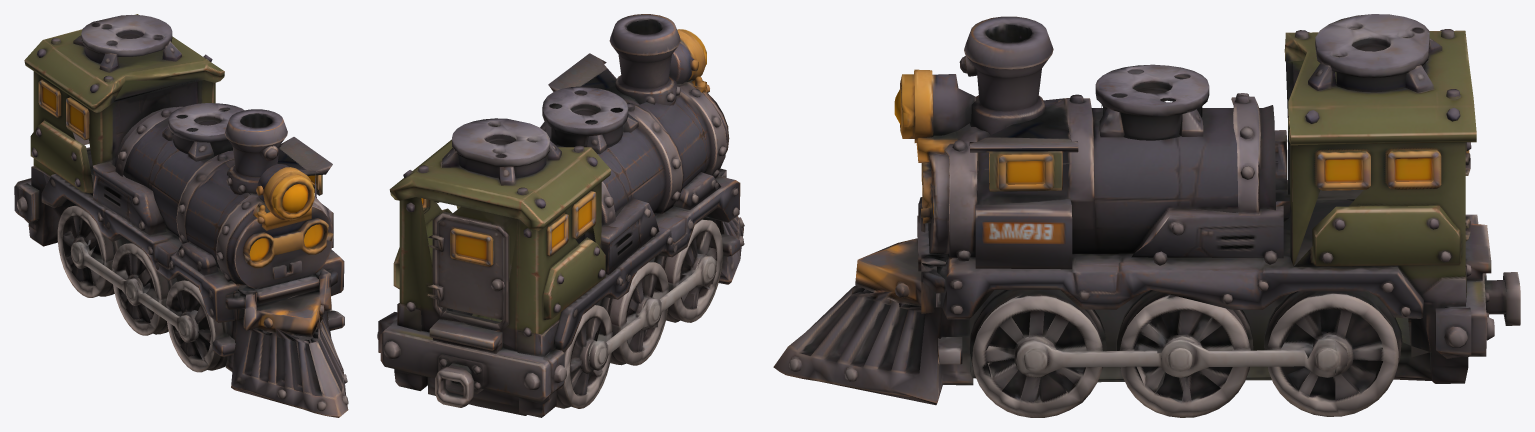
The model's file is locomotive.fbx.
3 views of the same model, side by side, from view 1: azimuth 30°, elevation 25°; view 2: azimuth 150°, elevation 25°; view 3: azimuth 270°, elevation 25° (orthographic). The views are drawn at different scales.
Parts seen in each view (by area): view 1: tripo_245a192a_7b17_424f_bcb0_1eaca04df564; view 2: tripo_245a192a_7b17_424f_bcb0_1eaca04df564; view 3: tripo_245a192a_7b17_424f_bcb0_1eaca04df564.
Part boxes in pixels (x1,y1,x2,y2): tripo_245a192a_7b17_424f_bcb0_1eaca04df564: (14, 14, 348, 417); tripo_245a192a_7b17_424f_bcb0_1eaca04df564: (377, 14, 744, 417); tripo_245a192a_7b17_424f_bcb0_1eaca04df564: (773, 14, 1520, 417).
Bounding box in the file's own units: 2.92 × 4.2 × 8.24.
1 material, 1 textured.
